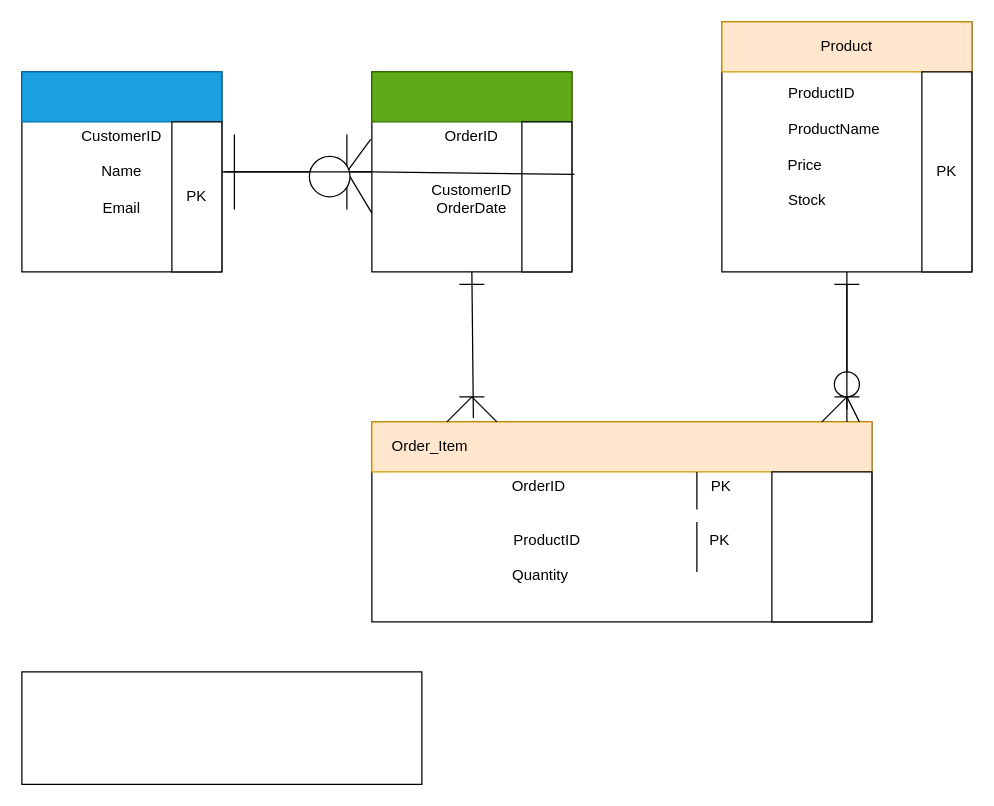
This 994x806 diagram has some shape labels left out. The shapes that lost their labels are listed below. From the top down, each one's centre as x and y in pixels, then its label:
(121,96): Customer
(471,96): Order
(821,546): FK FK
(221,727): VLADISLAV TYO ID: 202590240
